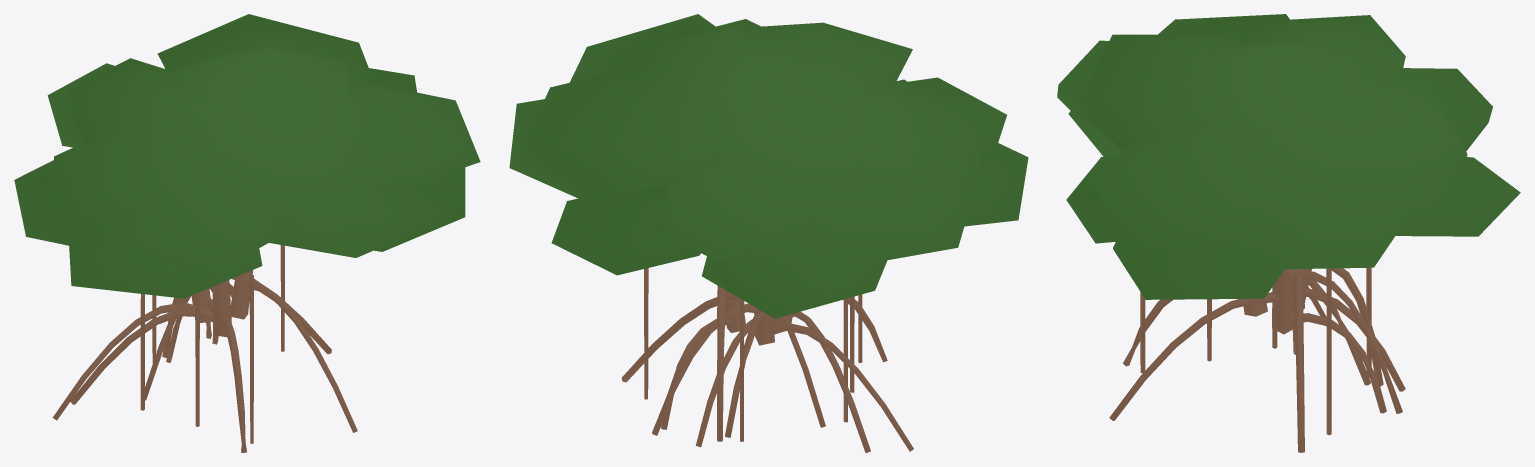
File: Blender_Mangrove_1_Far.glb
3 renders of one model, left to right at view 1: azimuth 30°, elevation 25°; view 2: azimuth 150°, elevation 25°; view 3: azimuth 270°, elevation 25°, orthographic. The views are drawn at different scales.
Visible parts, largest first — view 1: Blender_Mangrove_1_Far; view 2: Blender_Mangrove_1_Far; view 3: Blender_Mangrove_1_Far.
Part boxes in pixels (x1,y1,x2,y2): Blender_Mangrove_1_Far: (14,14,480,452); Blender_Mangrove_1_Far: (509,14,1028,452); Blender_Mangrove_1_Far: (1057,14,1520,452).
Bounding box in the file's own units: 7.7 × 6.03 × 7.01.
